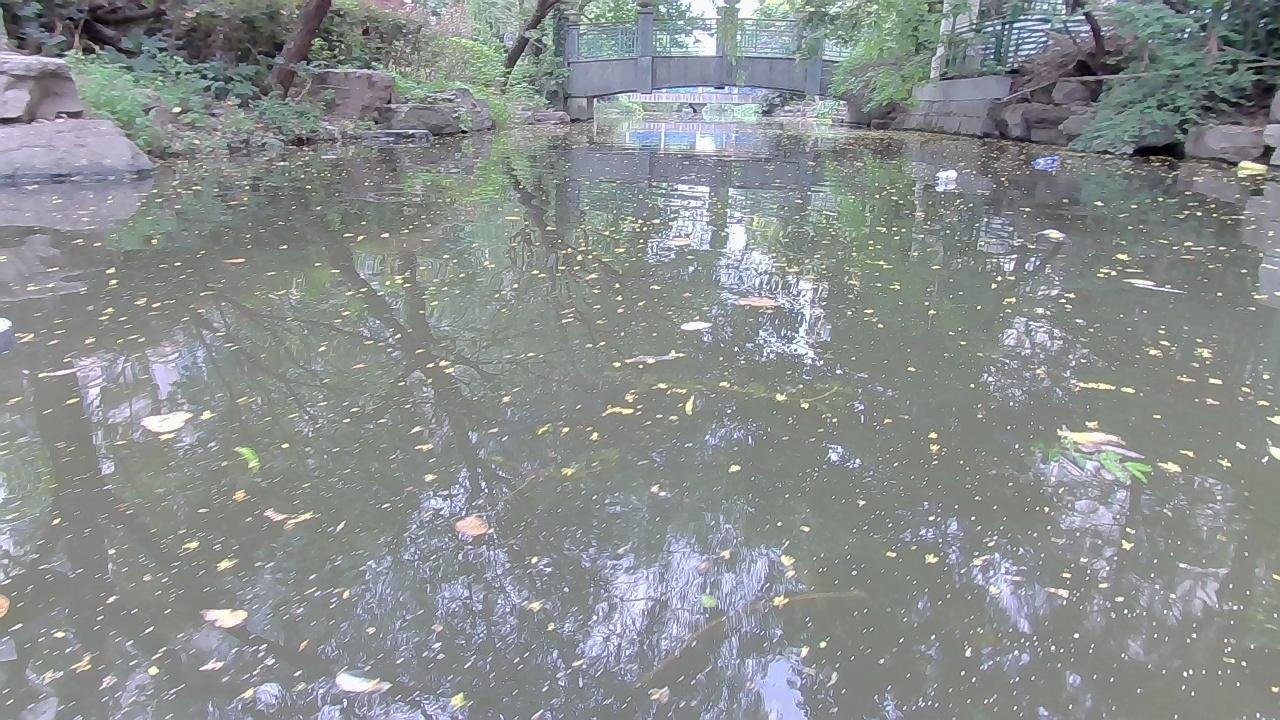bottle: (1029, 151, 1062, 170), (1236, 157, 1269, 175), (932, 169, 960, 182)
